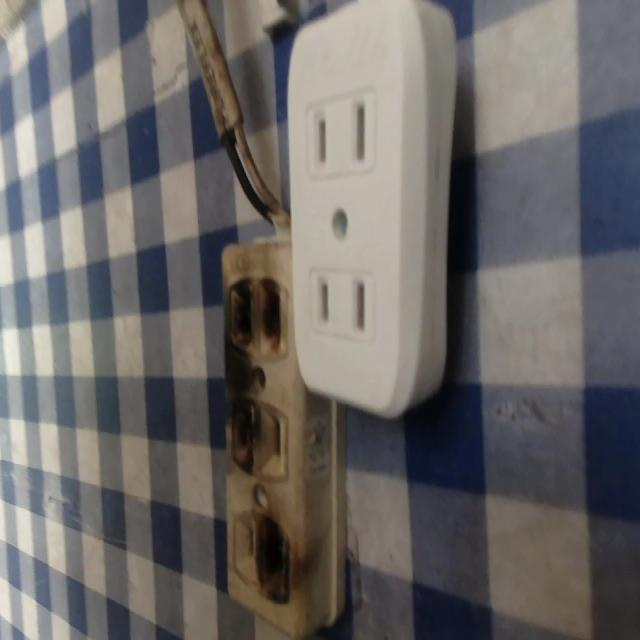-: (224, 276, 296, 368), (248, 508, 295, 603), (218, 395, 263, 472)
